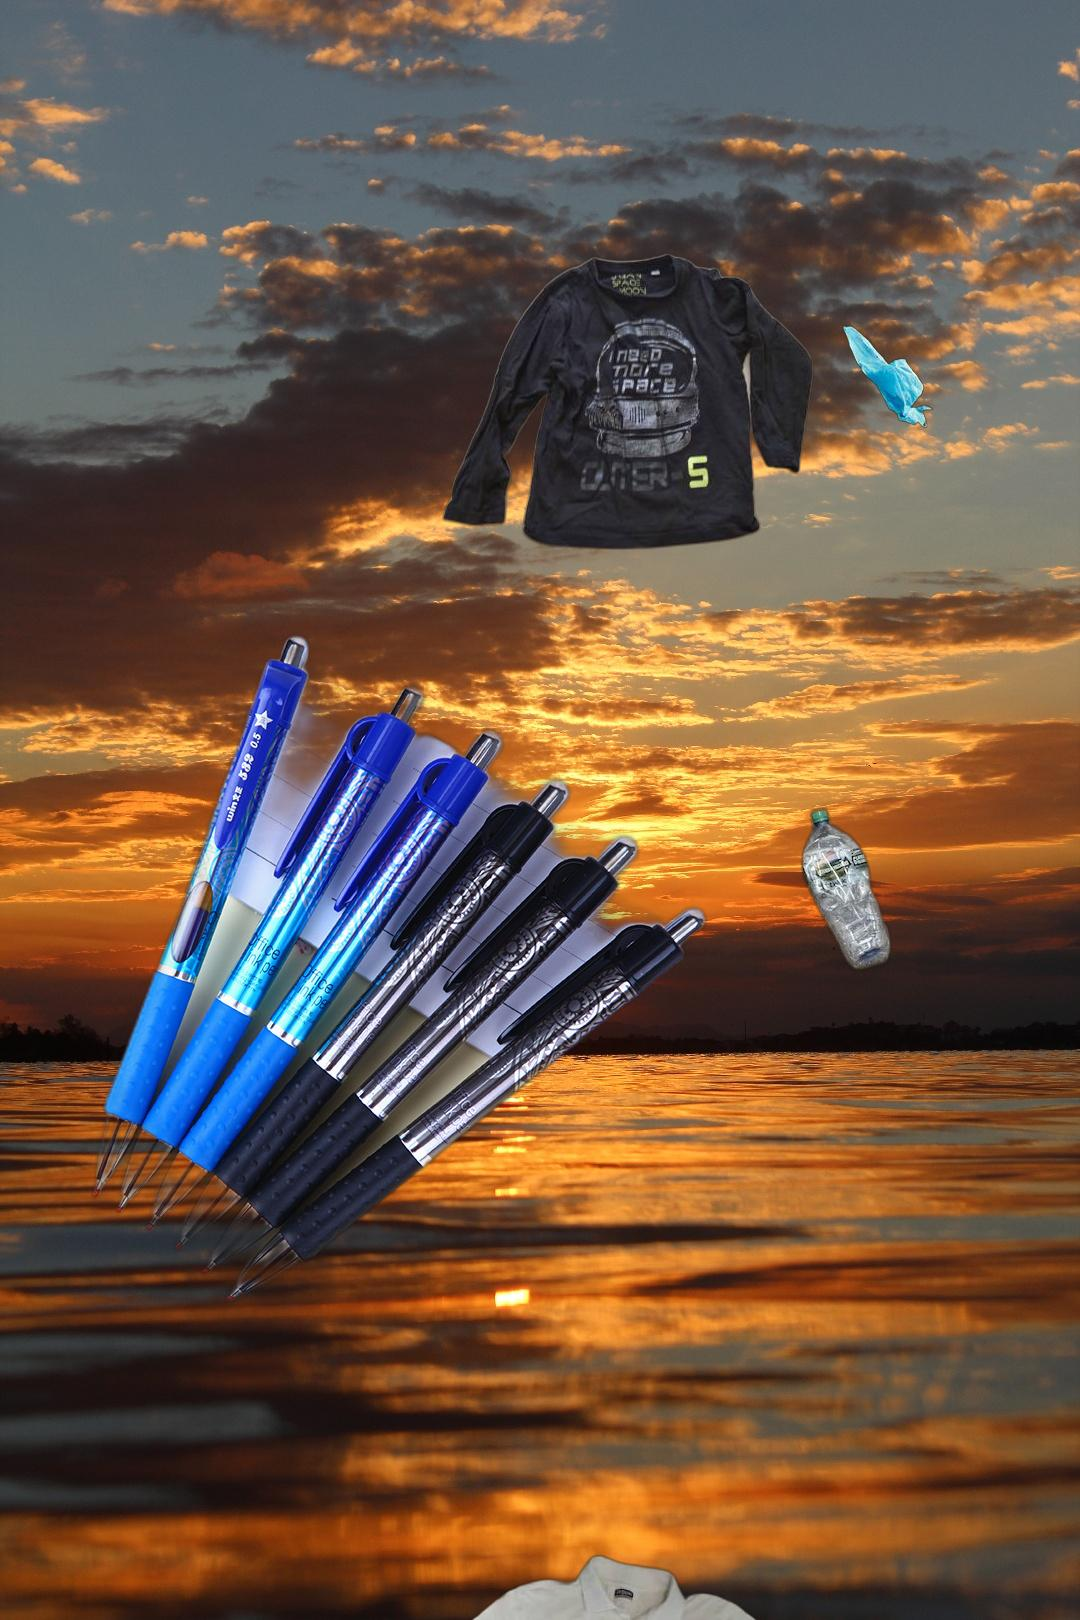clothes: (440, 248, 815, 554), (427, 1551, 820, 1620)
metal-cans: (790, 1574, 1080, 1620)
penholder: (86, 629, 714, 1309)
plastic-bag: (840, 323, 937, 432)
plastic-bottles: (797, 802, 896, 978)
